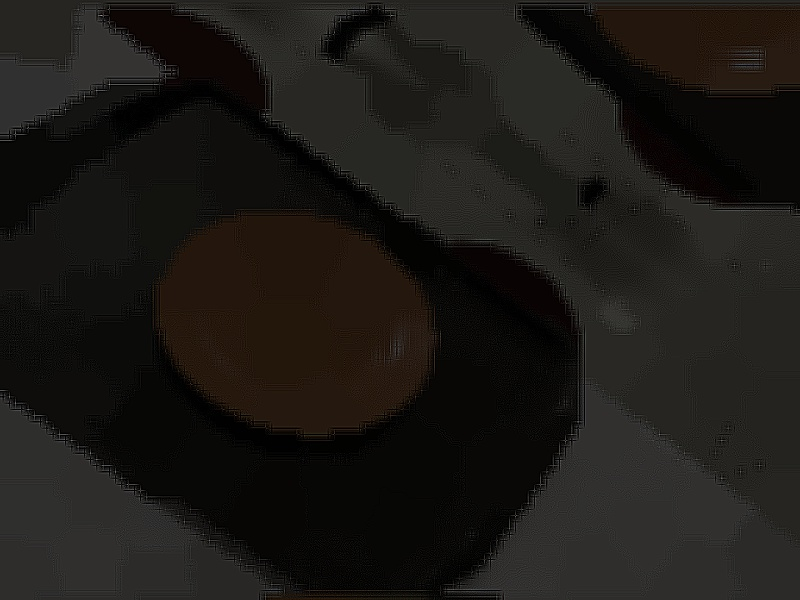dish10: (86, 160, 502, 488)
